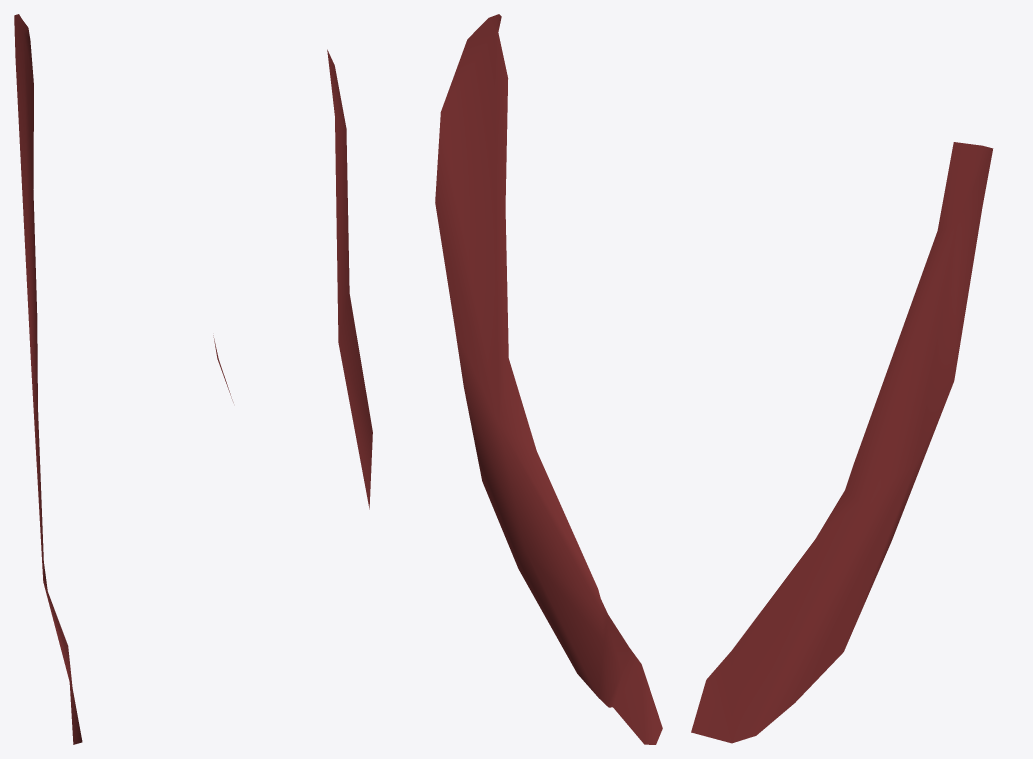
Rendered from dorsal-interossei-muscles-of-hand-o1r.glb.
3 views of the same model, side by side, from view 1: azimuth 30°, elevation 25°; view 2: azimuth 150°, elevation 25°; view 3: azimuth 270°, elevation 25° (orthographic). The views are drawn at different scales.
Visible parts, largest first — view 1: Dorsal interossei muscles of hand.o1r; view 2: Dorsal interossei muscles of hand.o1r; view 3: Dorsal interossei muscles of hand.o1r.
Part boxes in pixels (bbox=[...]): Dorsal interossei muscles of hand.o1r: bbox=[14, 14, 233, 744]; Dorsal interossei muscles of hand.o1r: bbox=[327, 14, 662, 744]; Dorsal interossei muscles of hand.o1r: bbox=[691, 142, 993, 743].
Size of the model in its own units: 0.0102 by 0.0297 by 0.0117.
